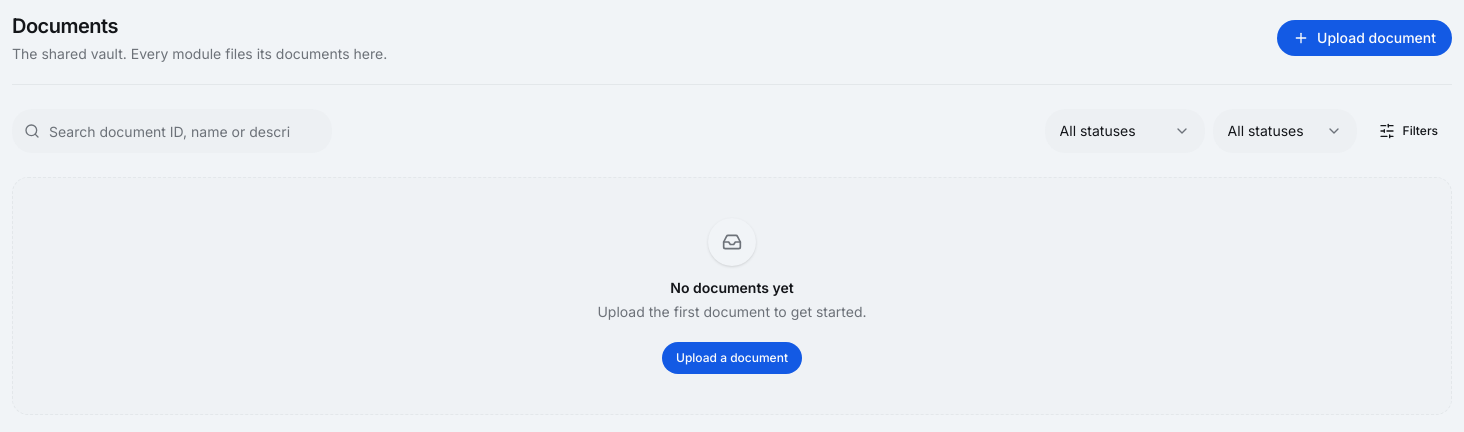
it: DocumentListPage filters › offers only the statuses a document can actually hold
What coordinates should you click on to do the following:
click the dropdown named "filter by status"
I would click on:
 (1125, 131)
Its box is [1045,109,1205,153].
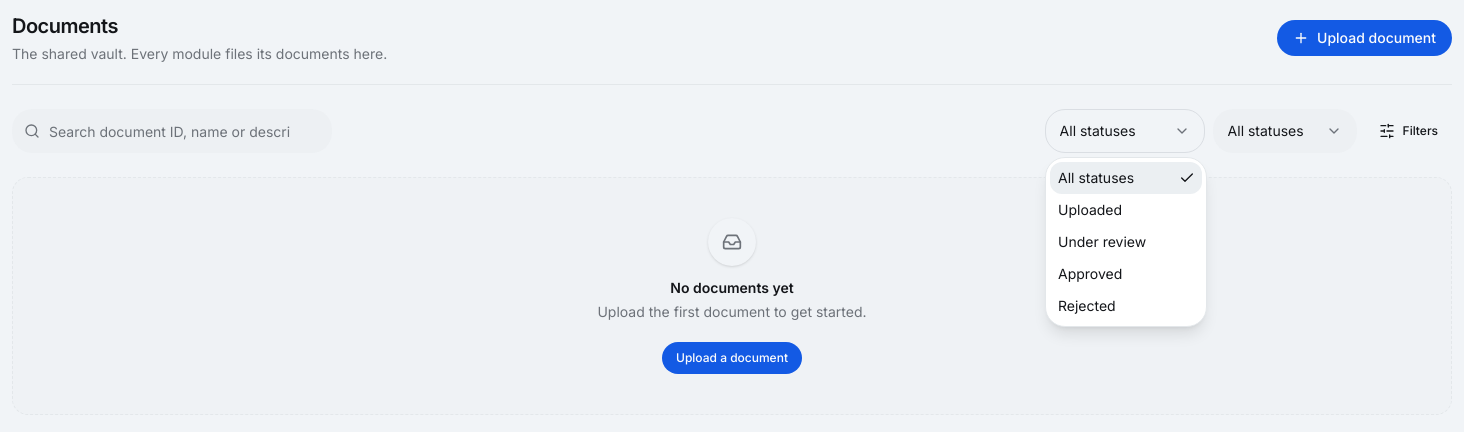
Check: the option "Approved" is shown, box [1058,265,1122,282]
